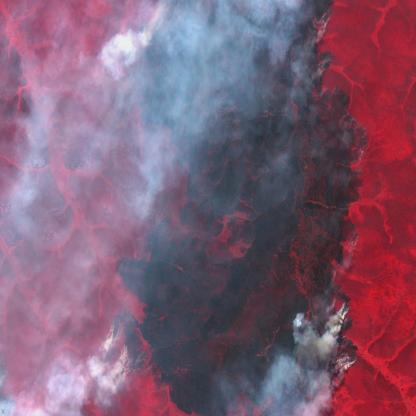fire: (306, 0, 376, 159), (126, 0, 182, 125), (320, 286, 370, 390), (102, 301, 160, 387), (0, 351, 23, 416)
